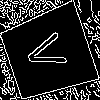V: (23, 28, 76, 75)
